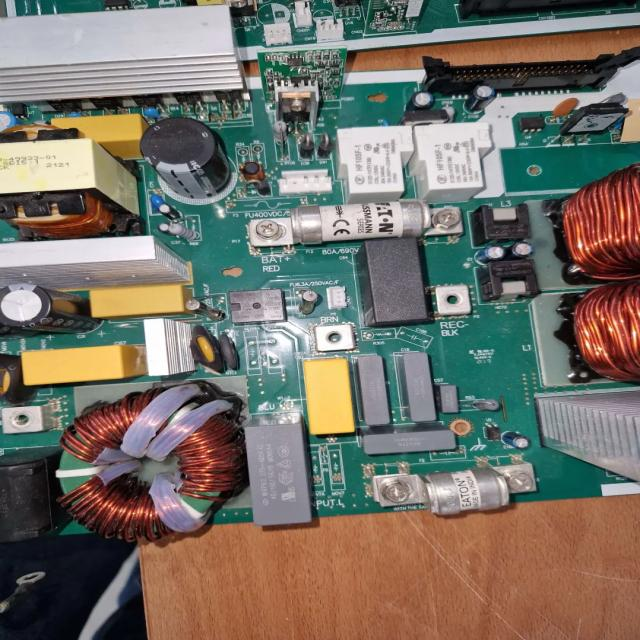A: (56, 381, 243, 544), (555, 163, 640, 280), (561, 281, 640, 383)
B: (249, 202, 470, 247), (376, 464, 535, 516)
C: (139, 119, 230, 200)
G: (2, 5, 245, 95), (537, 388, 640, 478), (1, 237, 184, 284)
